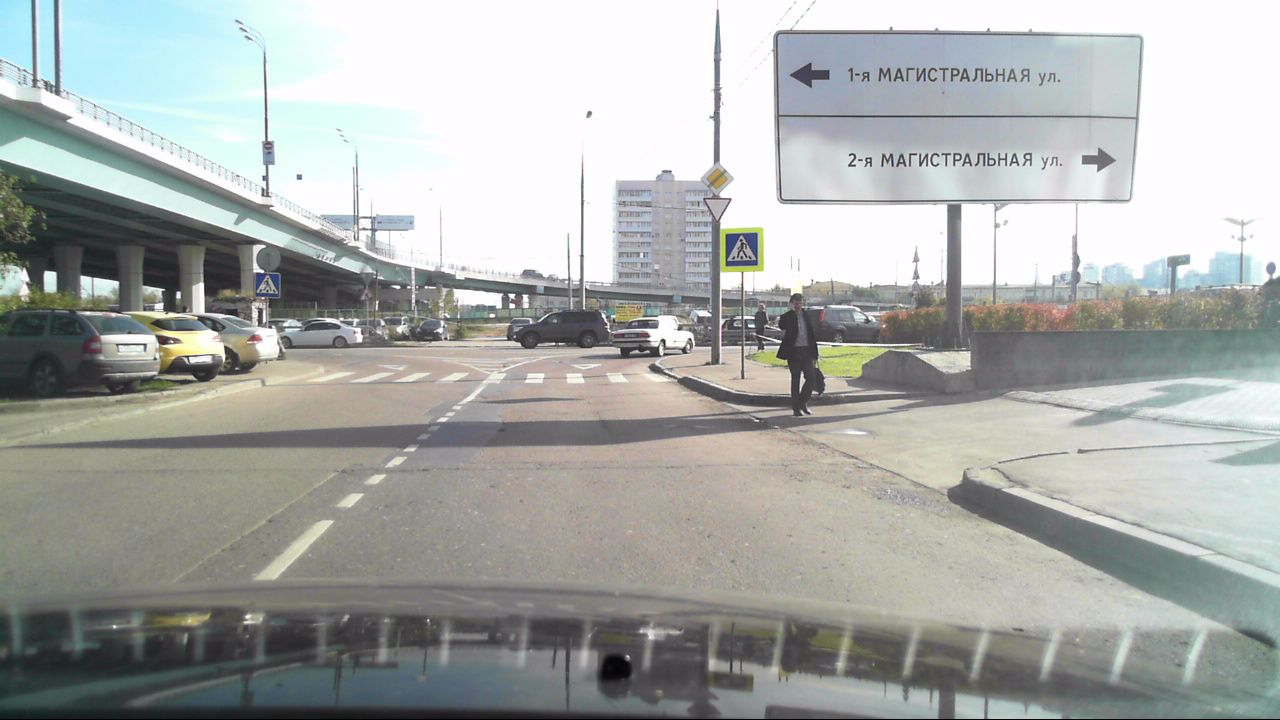main road: (699, 162, 733, 196)
